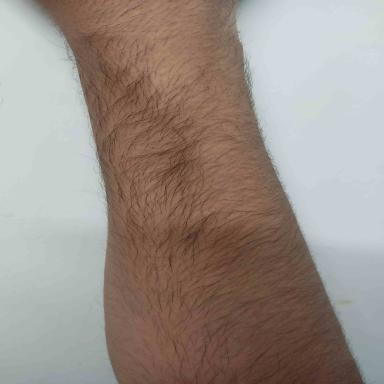normal skin: (37, 0, 364, 384), (144, 83, 145, 84)
